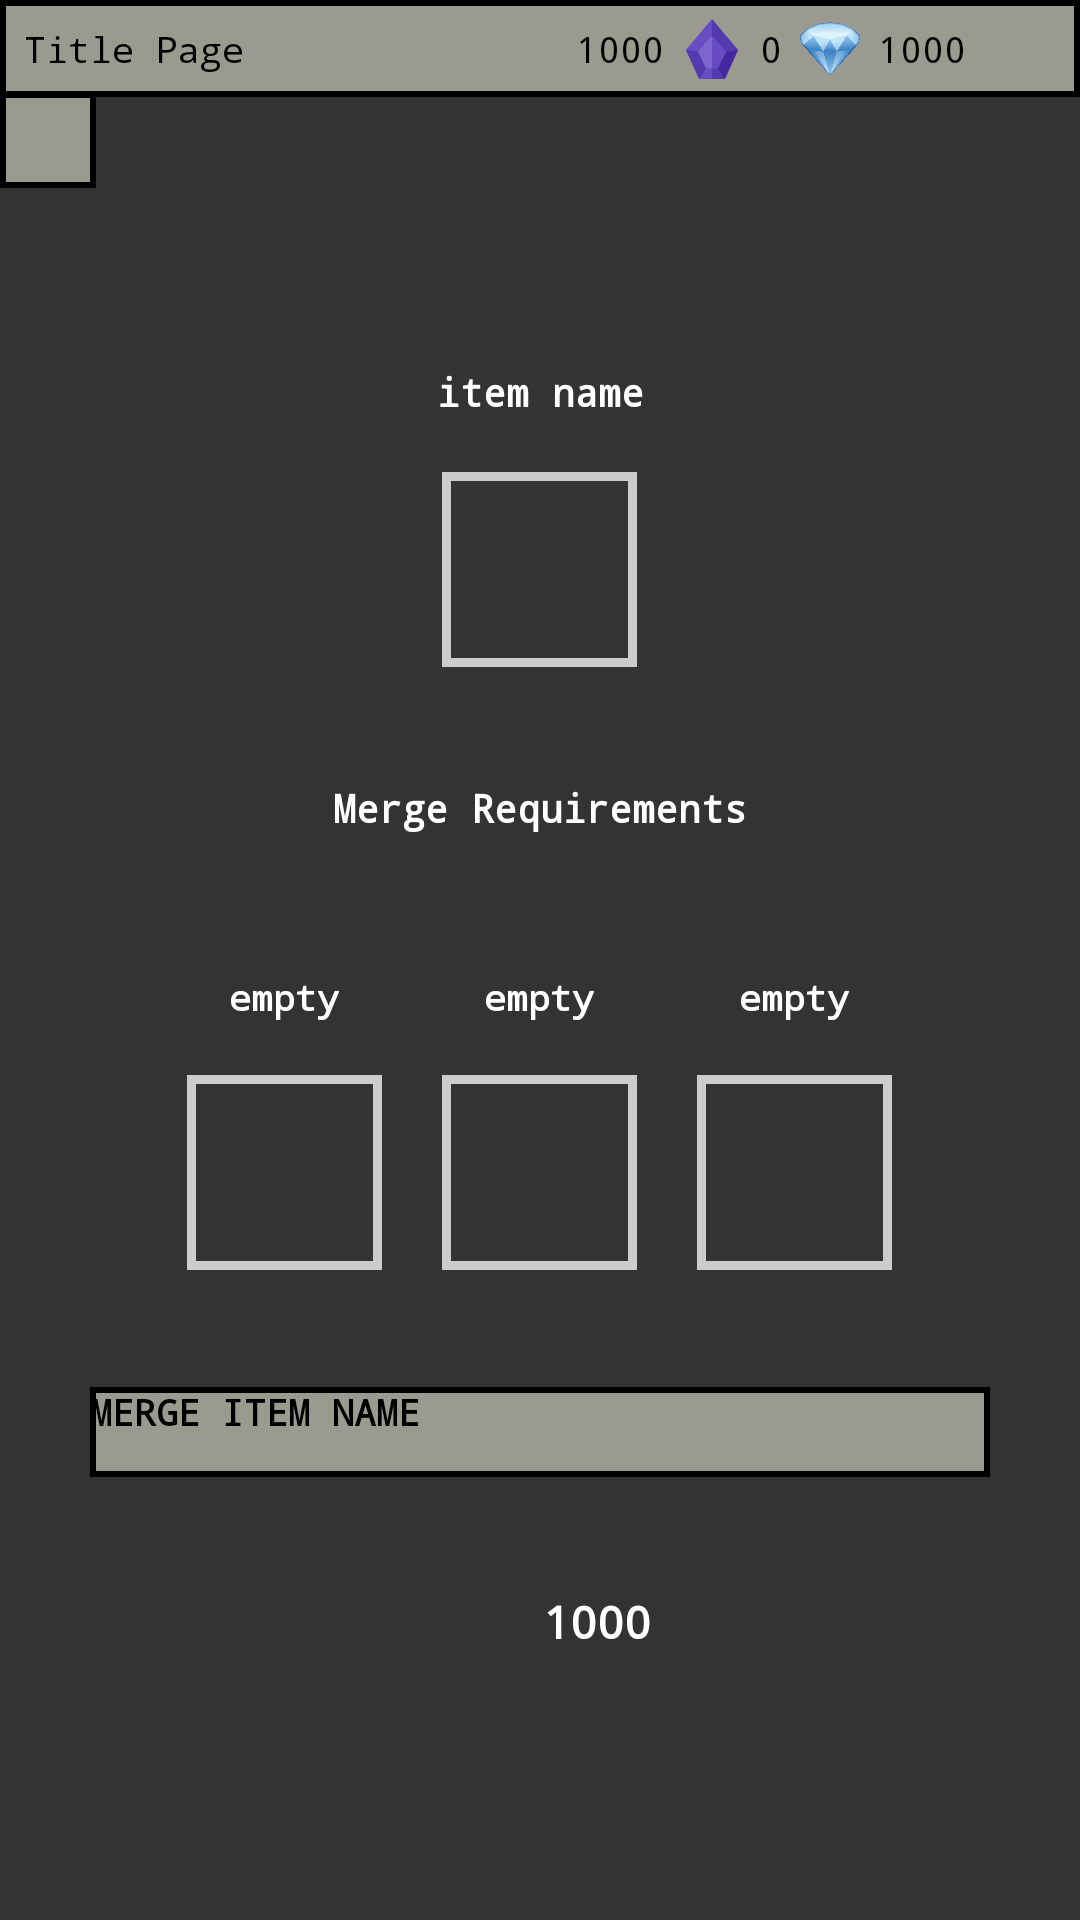

Locate icon controls on the screen. Image size 1080*1920, boxes as (x1, y1, x2, y2).
diamond: (800, 22, 860, 75)
